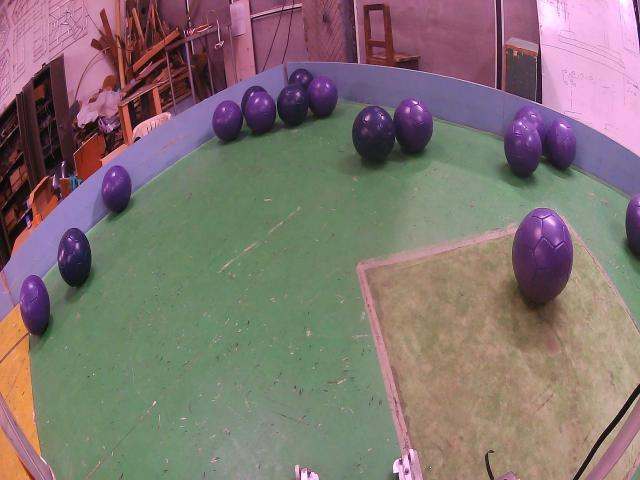jambhalya: (511, 207, 572, 303), (504, 118, 542, 177), (394, 98, 432, 152), (20, 275, 50, 335), (548, 118, 576, 170), (101, 165, 131, 212), (244, 92, 276, 133), (514, 107, 546, 147), (212, 100, 242, 140), (308, 77, 338, 117), (625, 193, 640, 256)
kaalyya: (352, 105, 395, 162), (58, 228, 91, 287), (276, 83, 309, 125), (241, 85, 266, 115), (289, 68, 312, 90)
